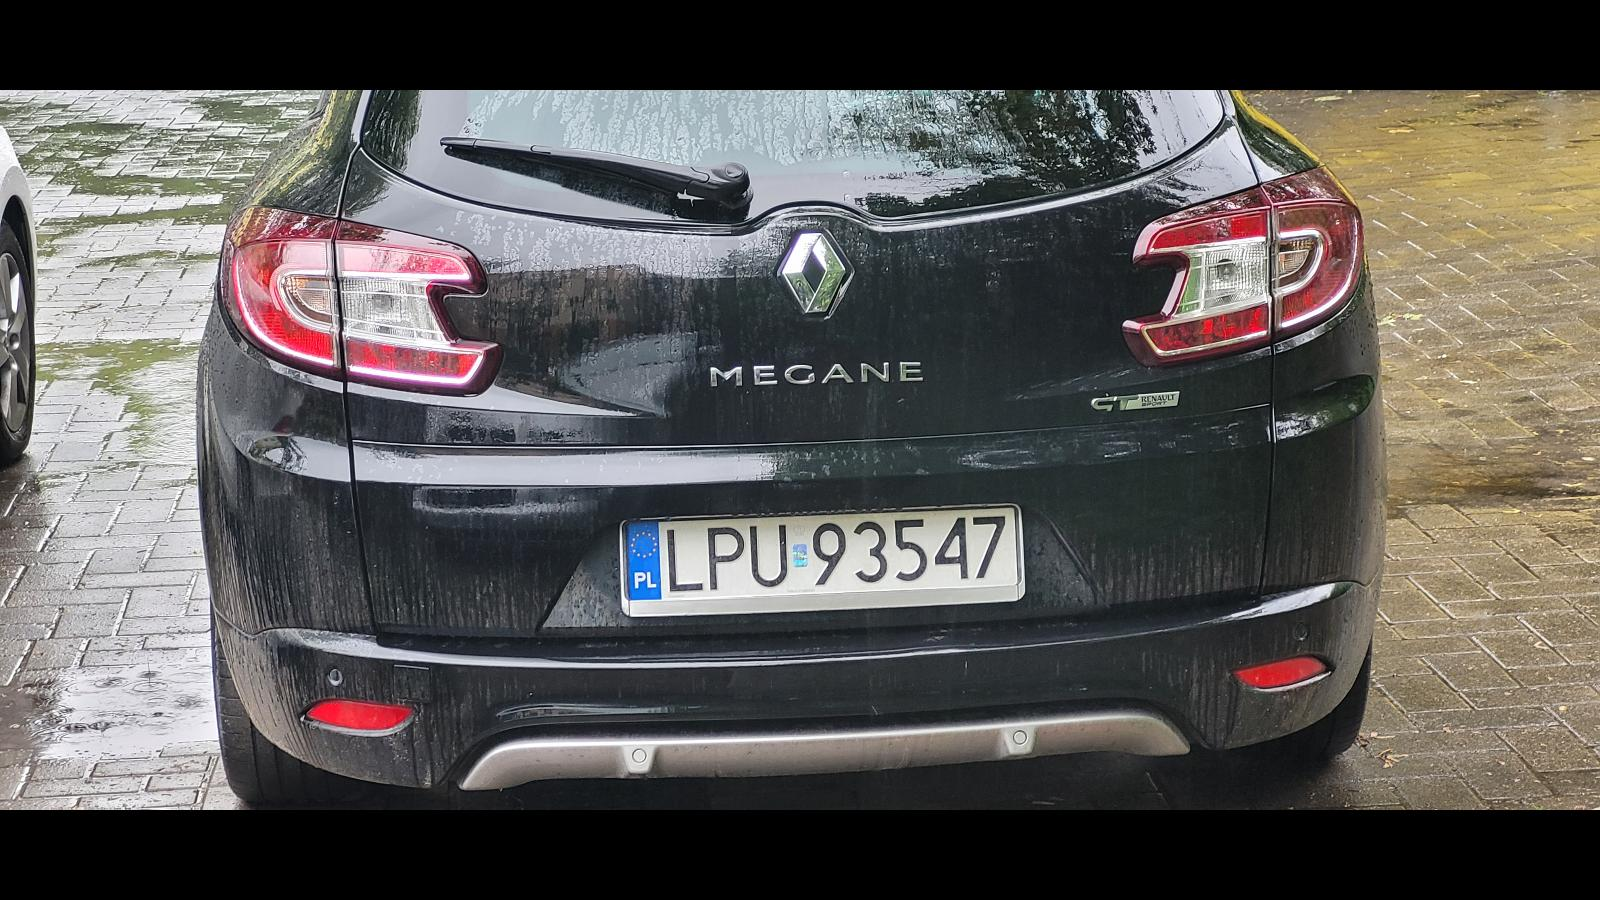plates: (620, 503, 1024, 617)
